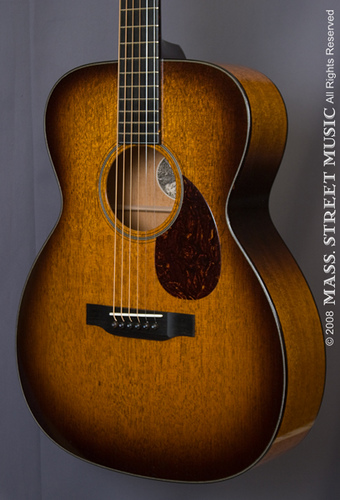guitar: (12, 1, 324, 484)
